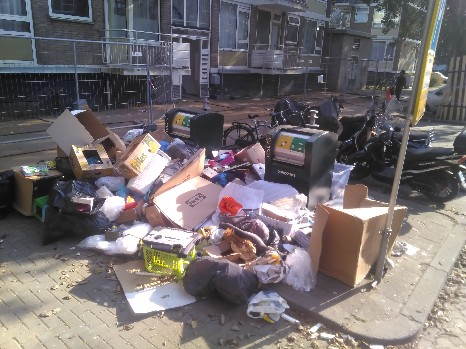Container: (265, 128, 336, 192), (171, 104, 218, 142)
Papier: (325, 200, 391, 289), (118, 261, 183, 326), (156, 172, 216, 226), (68, 121, 117, 180), (126, 137, 172, 183)
Rest: (98, 189, 200, 267), (239, 192, 314, 289), (196, 238, 272, 321), (1, 162, 70, 231), (228, 172, 291, 238), (46, 179, 98, 225), (219, 137, 266, 187)
Voertuig: (371, 118, 456, 217), (291, 93, 378, 165), (233, 107, 279, 140)
